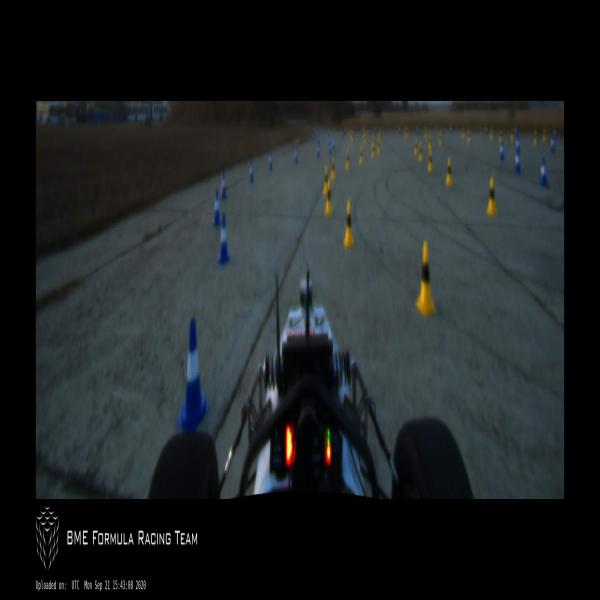blue_cone: (176, 318, 209, 434), (218, 213, 231, 266), (213, 190, 221, 228), (540, 158, 548, 187), (515, 148, 521, 174), (221, 172, 226, 200), (249, 161, 254, 182), (500, 144, 504, 160), (317, 144, 320, 159), (270, 154, 272, 170), (295, 149, 297, 164)
yellow_cone: (415, 239, 437, 319), (343, 199, 355, 250), (486, 177, 497, 216), (325, 181, 333, 216), (445, 157, 452, 188), (322, 166, 327, 195), (330, 157, 336, 181), (427, 152, 433, 173), (345, 149, 350, 170), (418, 142, 423, 162), (359, 146, 363, 165), (371, 141, 375, 159), (414, 139, 418, 155), (377, 138, 380, 154)
